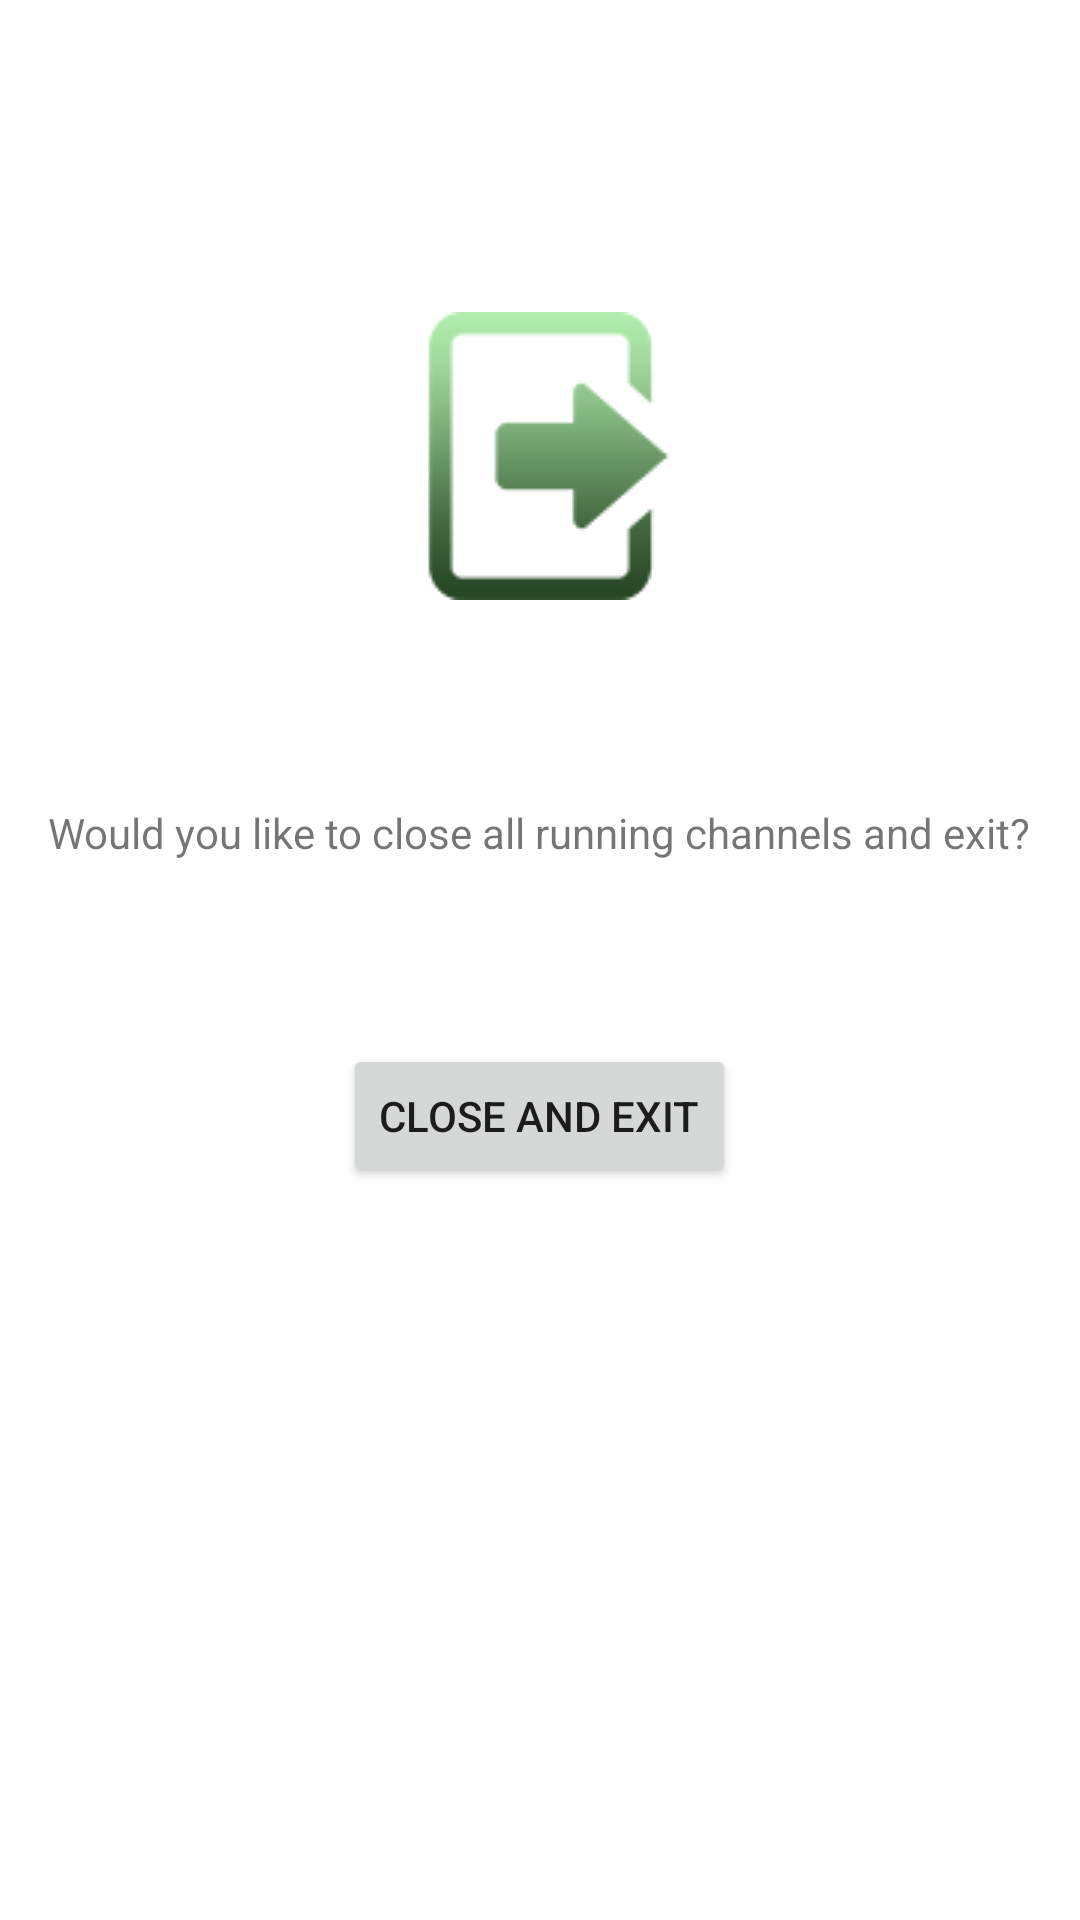

Named icons in this screenshot (1080px x 1920px) and their centers, [x,y]:
exit: [548,456]
